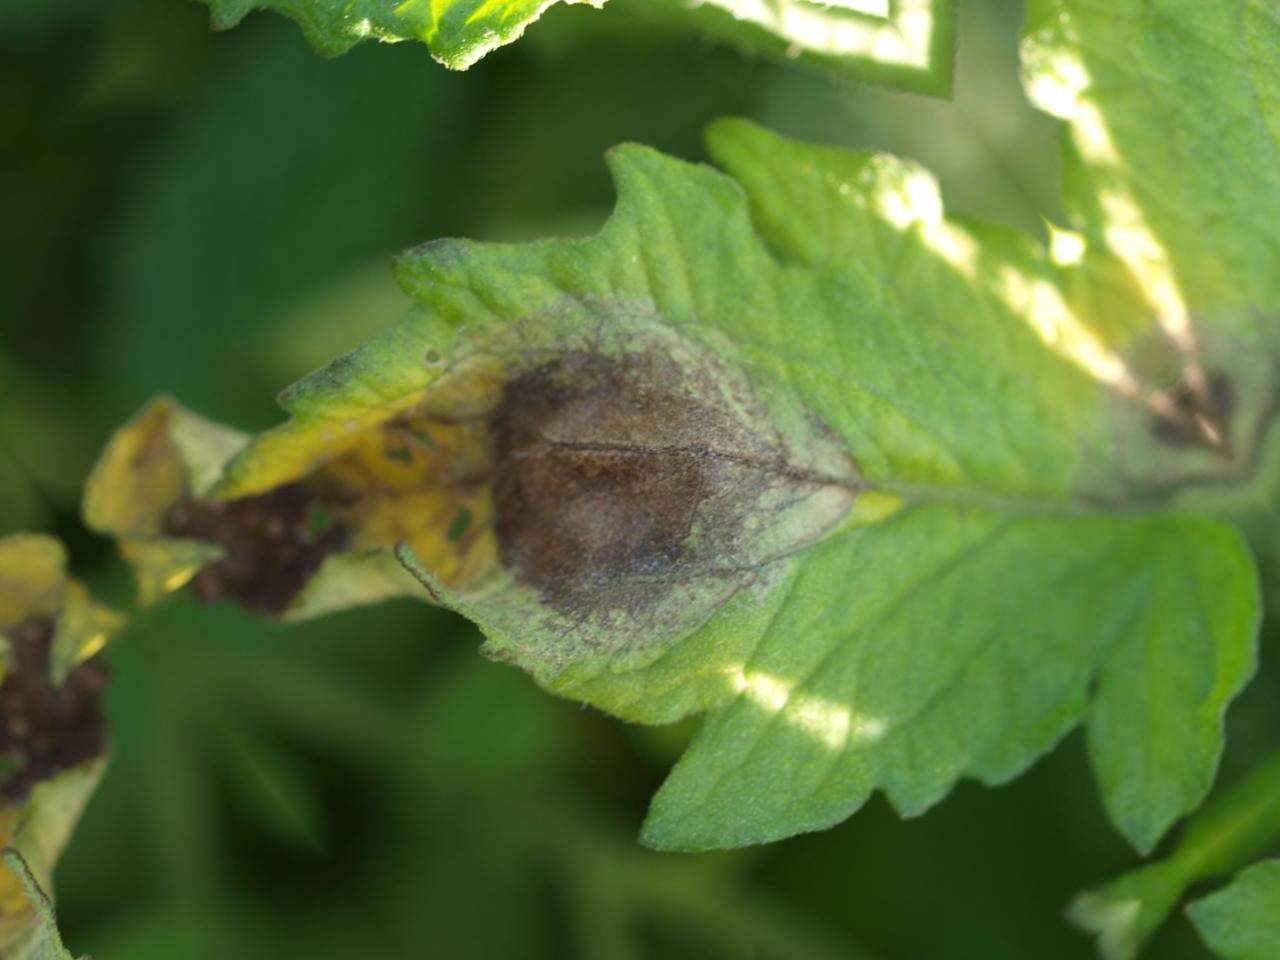Tomato leaf late blight: (42, 0, 1280, 960)
